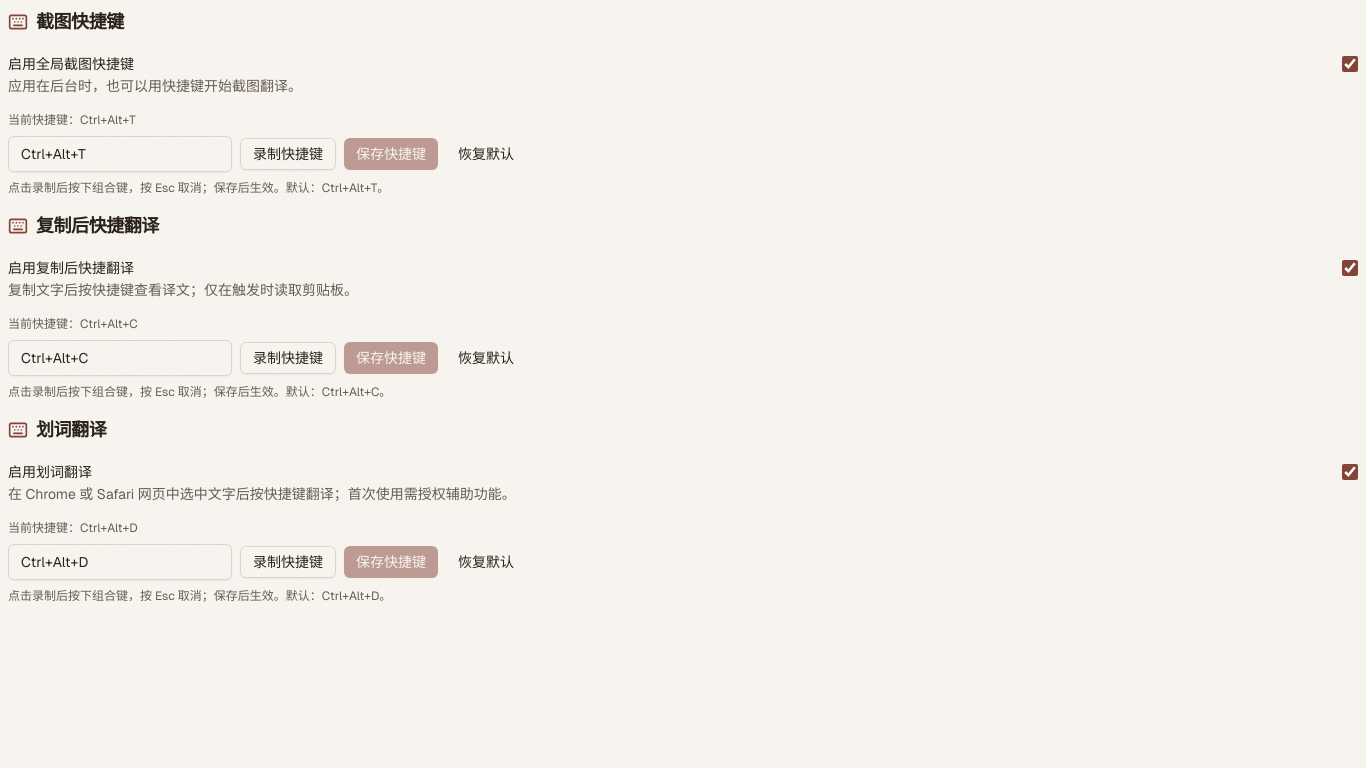
Test: screenshot shortcut settings › configures selection independently when both controls are rendered
Expected: the field named "划词翻译组合" holds "Ctrl+Alt+D", [8,544,232,580]
Click the switch labelled "启用划词翻译". click: coordinates (1350, 472)
box: [1342,464,1358,480]
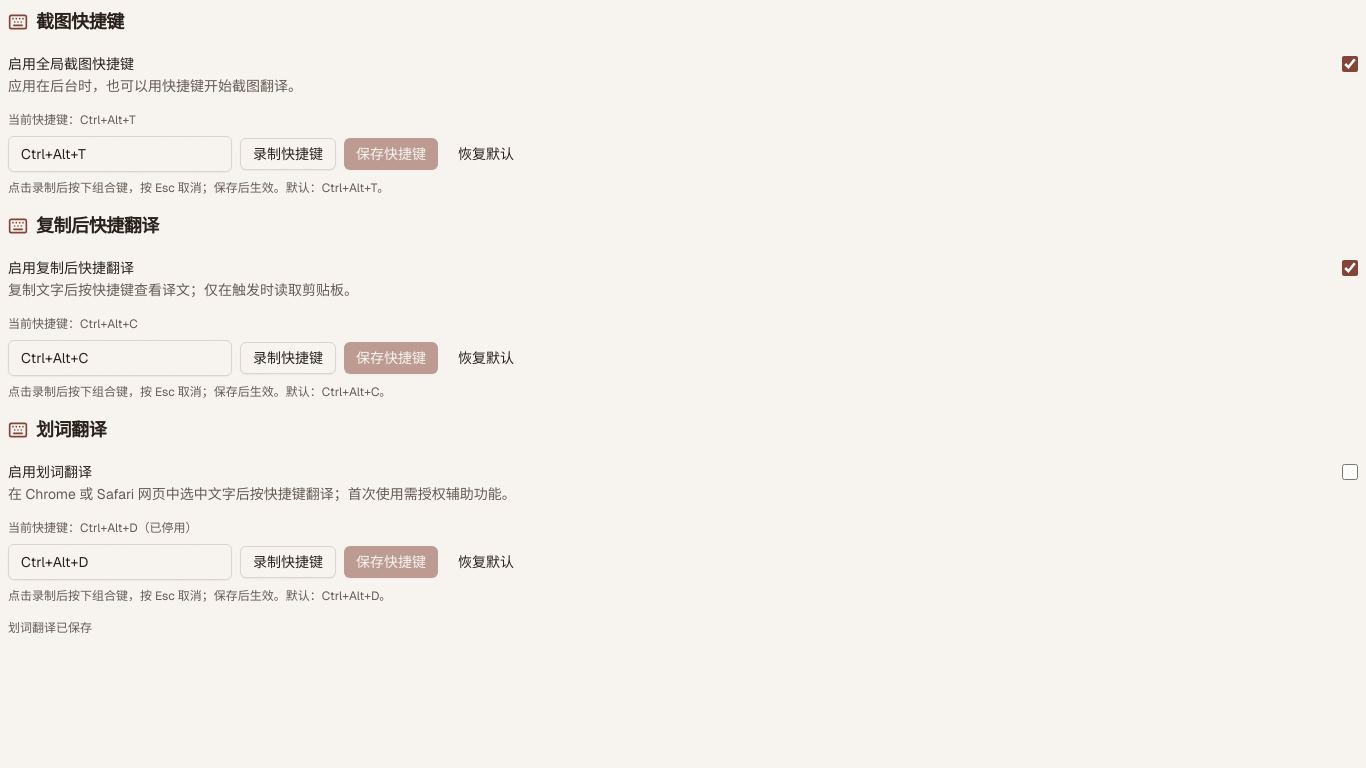
Expected: the switch labelled "启用全局截图快捷键" is checked, [1342,56,1358,72]
Expected: the message reads "划词翻译已保存", [8,620,92,636]
